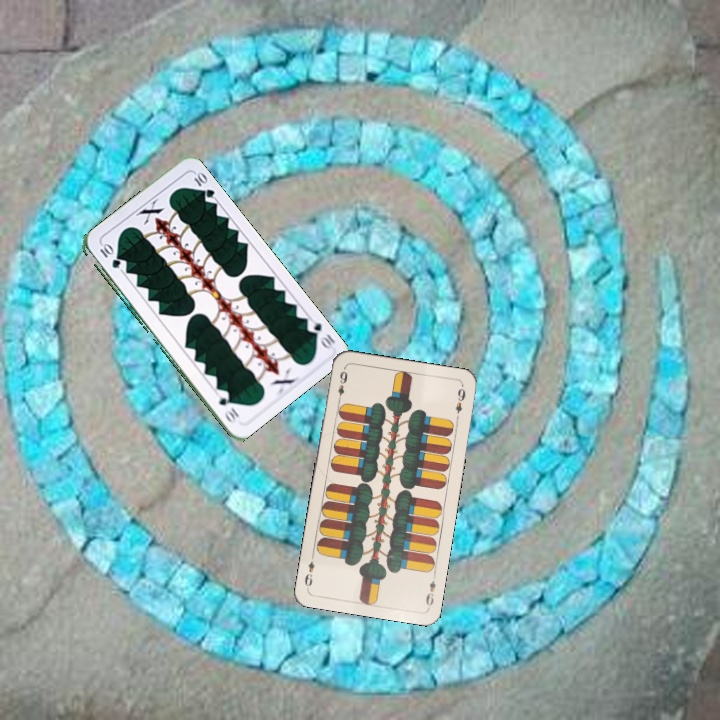E9: (421, 570, 439, 610), (334, 364, 350, 405)
G10: (302, 315, 338, 352), (96, 240, 122, 271)
